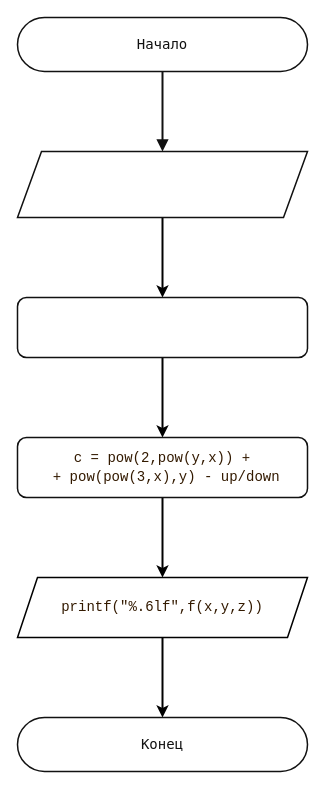
This 326x790 diagram has some shape labels left out. Each missing label, with the centre of its shape:
"up = y * ( atan ( z ) - M_PI / 6 ) down = fabs ( x ) + 1 / ( pow ( y , 2 ) + 1 )" goes at (162,327).
"X = 3.251,Y = 0.325, Z = 0.466 * pow(10,-4)" goes at (162,184).
